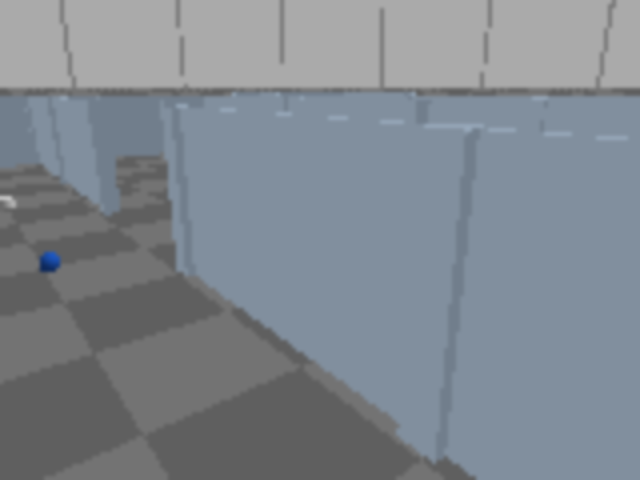puck: (33, 249, 66, 277)
